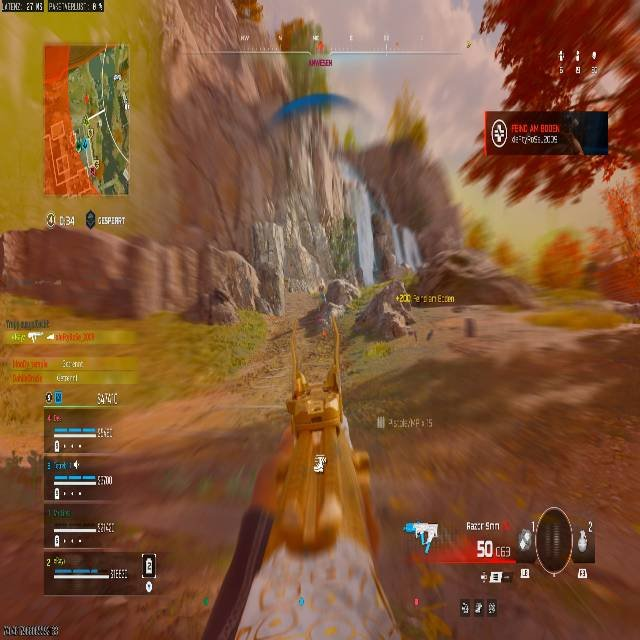player: (320, 279, 353, 338)
